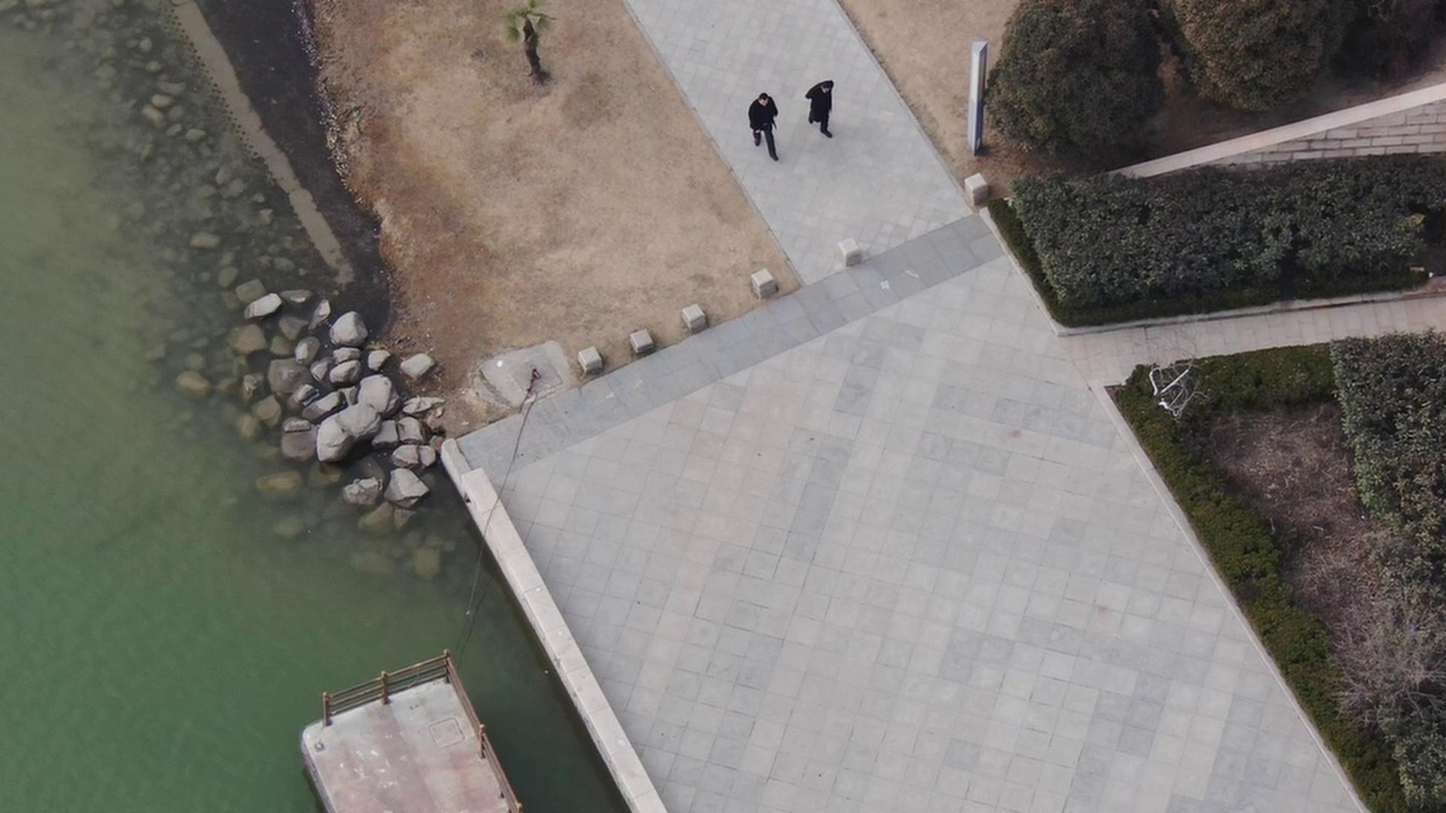human: (773, 73, 825, 151), (721, 92, 763, 163)
